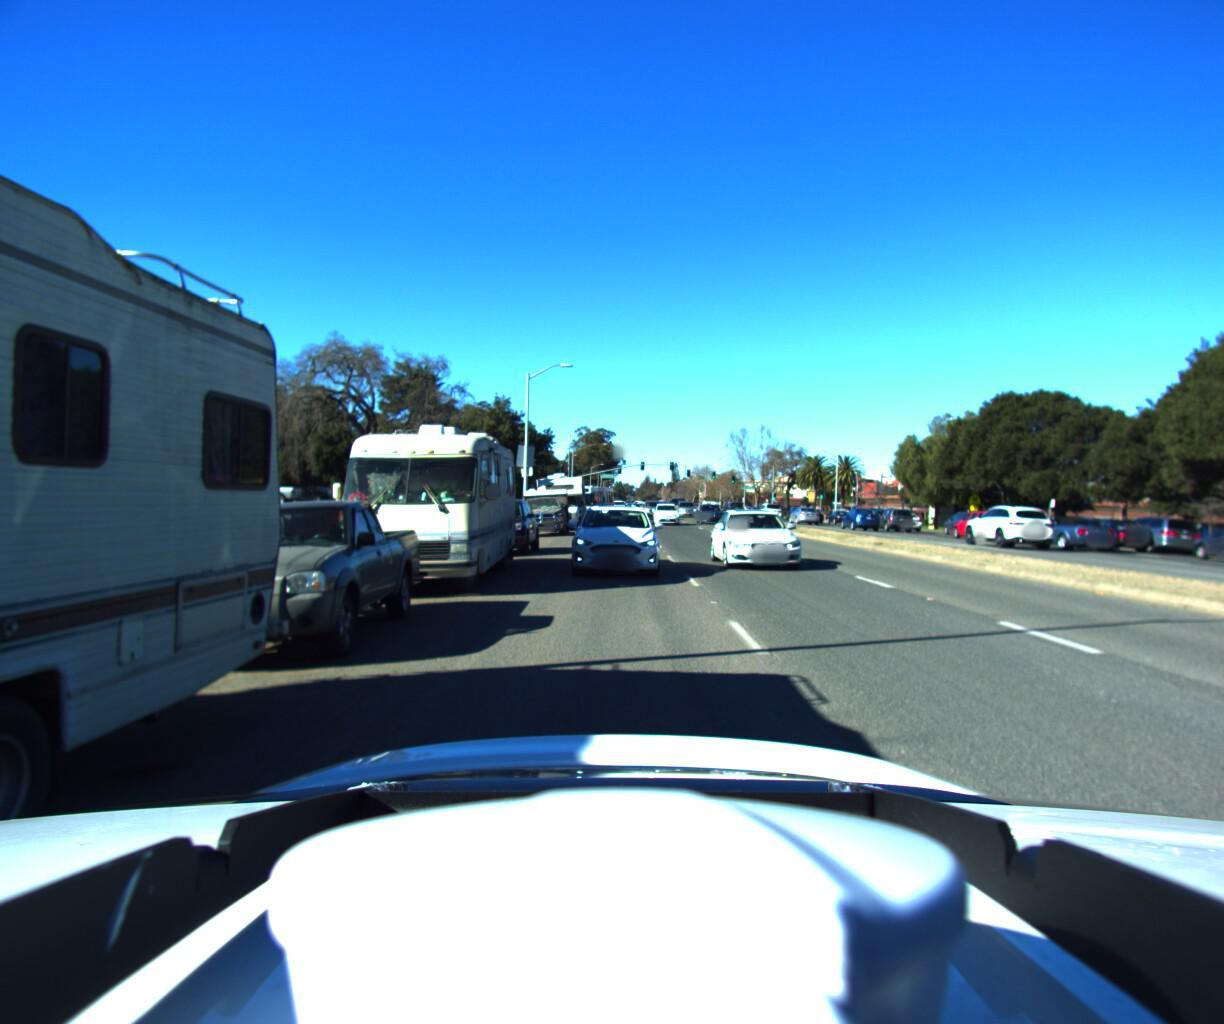bus: (560, 480, 619, 520)
car: (130, 483, 421, 680), (711, 500, 819, 575), (565, 499, 656, 580), (460, 494, 541, 555), (961, 501, 1056, 549), (1106, 513, 1213, 553), (1066, 511, 1160, 551), (1025, 513, 1114, 550), (512, 484, 572, 536), (1177, 515, 1224, 563), (933, 507, 994, 538), (875, 505, 923, 532), (870, 500, 913, 529), (835, 506, 878, 530), (649, 499, 684, 526), (697, 500, 732, 524), (787, 504, 822, 522), (752, 502, 780, 522), (639, 498, 663, 520), (676, 498, 700, 516)
other_vehicle: (303, 396, 530, 600), (527, 467, 591, 530)
